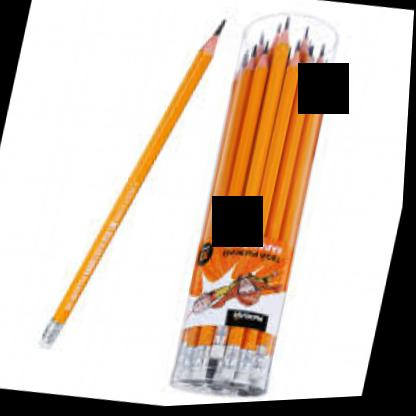pencil: (33, 7, 233, 356), (209, 14, 297, 362), (193, 41, 279, 383), (249, 41, 334, 384), (232, 27, 314, 381), (207, 25, 290, 373), (224, 41, 308, 380), (252, 56, 336, 394), (189, 29, 270, 379), (237, 45, 320, 386), (181, 42, 262, 385), (177, 51, 253, 385), (171, 71, 248, 389)
